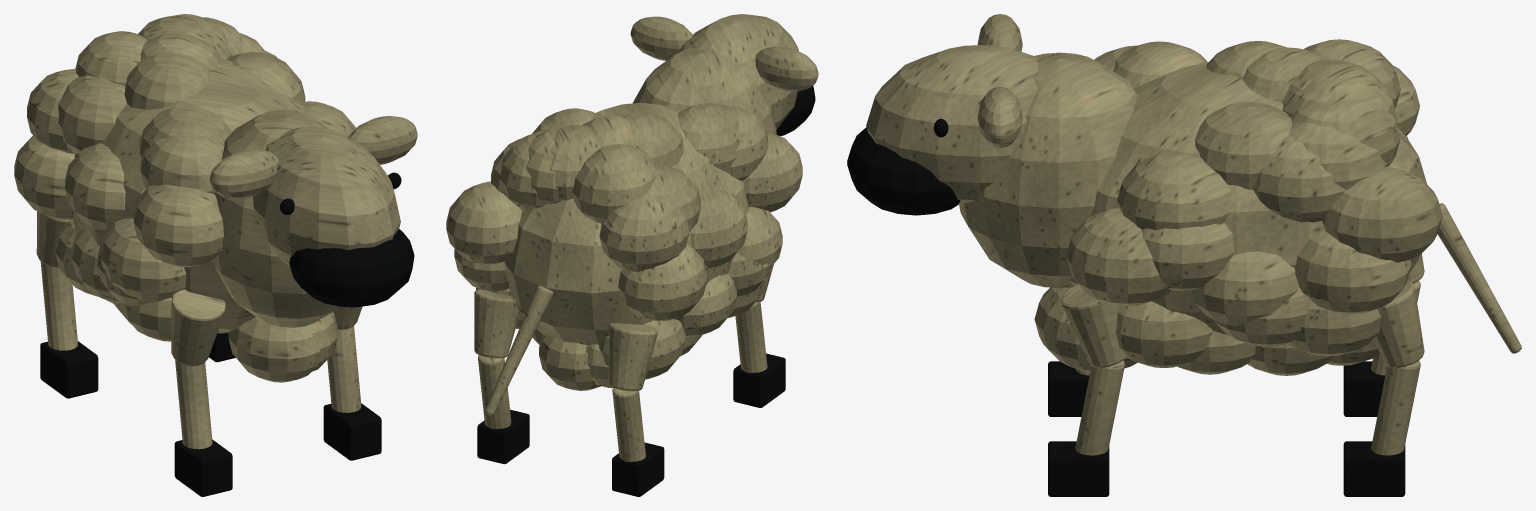
Rendered from PROP-DBC77A1D1E95_lod0.glb.
The picture shows the model from 3 angles, left to right: view 1: azimuth 30°, elevation 25°; view 2: azimuth 150°, elevation 25°; view 3: azimuth 270°, elevation 25°; orthographic projection. The views are drawn at different scales.
Visible parts, largest first — view 1: wool_tufts, animal_head.003, animal_neck.003, animal_torso.003, hoof.003, lower_leg.003, muzzle.003, animal_ears.003, upper_leg.003; view 2: wool_tufts, animal_torso.003, hoof.003, animal_neck.003, upper_leg.003, lower_leg.003, animal_head.003, animal_ears.003, tail.003, muzzle.003; view 3: wool_tufts, animal_neck.003, animal_head.003, animal_torso.003, hoof.003, upper_leg.003, lower_leg.003, muzzle.003, animal_ears.003, tail.003.
Boxes of the visible parts, left/top/right/bottom form: wool_tufts: left=14, top=14, right=355, bottom=382; animal_head.003: left=253, top=126, right=400, bottom=266; animal_neck.003: left=213, top=110, right=339, bottom=327; animal_torso.003: left=72, top=58, right=306, bottom=333; hoof.003: left=40, top=332, right=381, bottom=496; lower_leg.003: left=40, top=261, right=361, bottom=449; muzzle.003: left=289, top=229, right=414, bottom=307; animal_ears.003: left=210, top=116, right=417, bottom=198; upper_leg.003: left=36, top=211, right=362, bottom=366; wool_tufts: left=446, top=103, right=802, bottom=390; animal_torso.003: left=504, top=102, right=748, bottom=344; hoof.003: left=477, top=353, right=785, bottom=496; animal_neck.003: left=633, top=48, right=776, bottom=134; upper_leg.003: left=474, top=264, right=773, bottom=391; lower_leg.003: left=478, top=301, right=767, bottom=461; animal_head.003: left=678, top=14, right=798, bottom=129; animal_ears.003: left=630, top=16, right=818, bottom=90; tail.003: left=485, top=285, right=553, bottom=415; muzzle.003: left=776, top=85, right=815, bottom=136; wool_tufts: left=1034, top=39, right=1442, bottom=375; animal_neck.003: left=959, top=52, right=1136, bottom=288; animal_head.003: left=866, top=45, right=1038, bottom=205; animal_torso.003: left=1069, top=62, right=1426, bottom=334; hoof.003: left=1048, top=361, right=1405, bottom=496; upper_leg.003: left=1060, top=253, right=1424, bottom=367; lower_leg.003: left=1075, top=280, right=1420, bottom=455; muzzle.003: left=847, top=127, right=960, bottom=215; animal_ears.003: left=977, top=14, right=1022, bottom=147; tail.003: left=1437, top=203, right=1521, bottom=353.
Bounding box in the file's own units: 0.8198 × 1.07 × 1.64.
2 materials, 2 textured.
